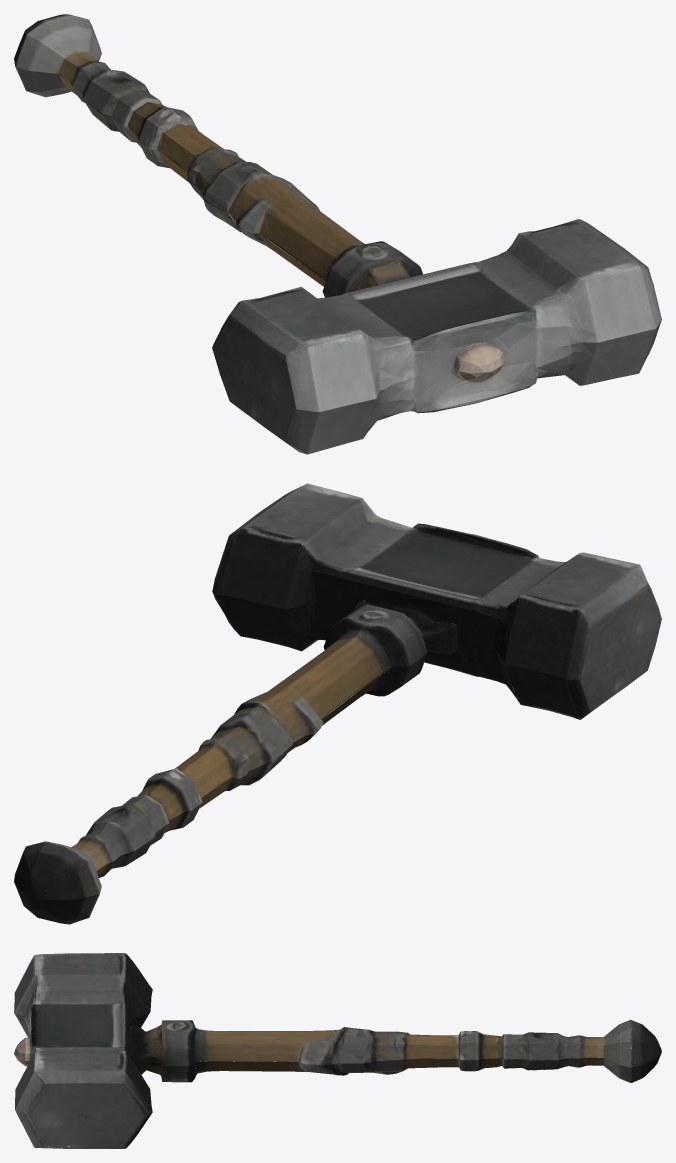
The model's file is hammer.glb.
3 views of the same model, one above another, from view 1: azimuth 30°, elevation 25°; view 2: azimuth 150°, elevation 25°; view 3: azimuth 270°, elevation 25° (orthographic). The views are drawn at different scales.
Parts seen in each view (by area): view 1: geometry_0; view 2: geometry_0; view 3: geometry_0.
Boxes of the visible parts, x1,y1,x2,y2 form: geometry_0: (14, 14, 661, 454); geometry_0: (14, 483, 661, 924); geometry_0: (14, 953, 661, 1148).
Size of the model in its own units: 0.4644 by 0.1326 by 0.9924.
1 material, 1 textured.
